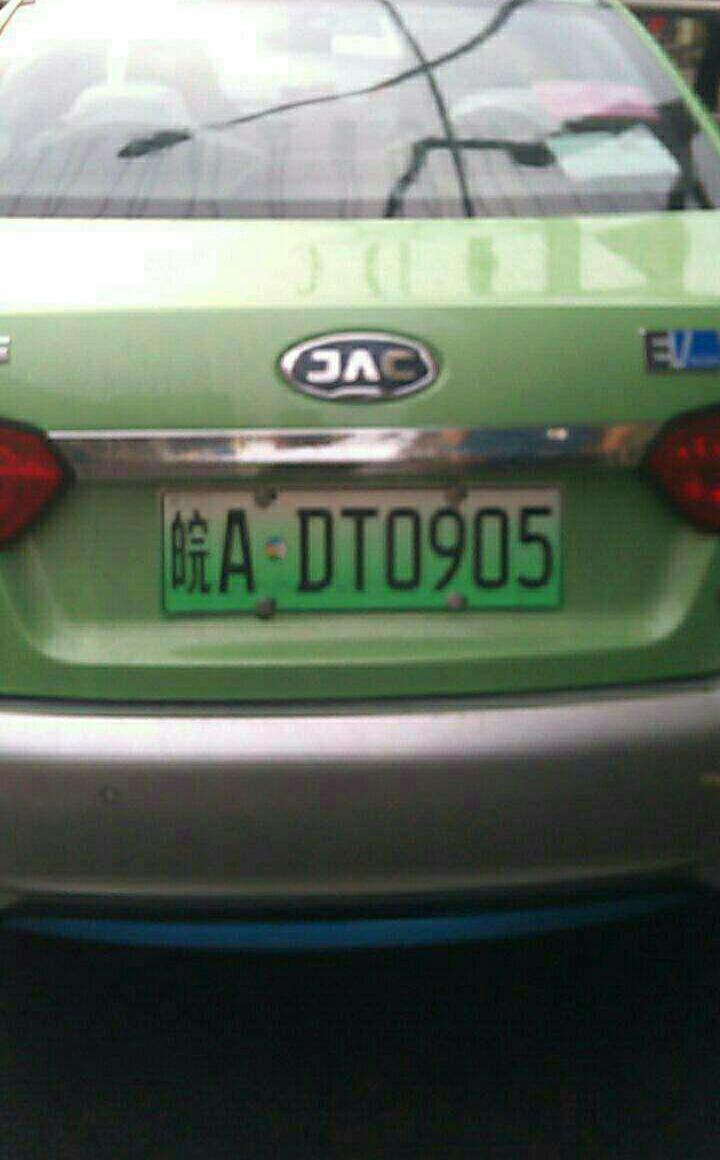car: (146, 486, 575, 615)
